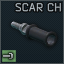FN SCAR charging handle: (0, 0, 64, 64)
